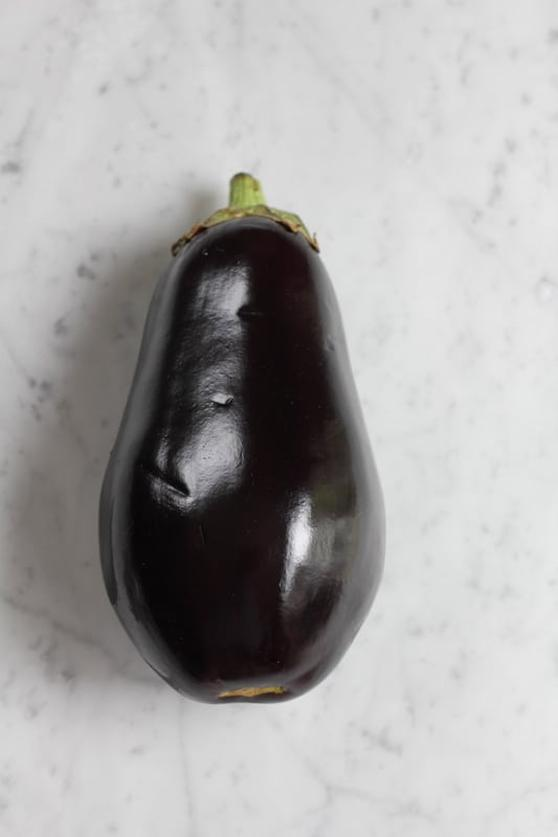eggplant: (95, 166, 403, 715)
